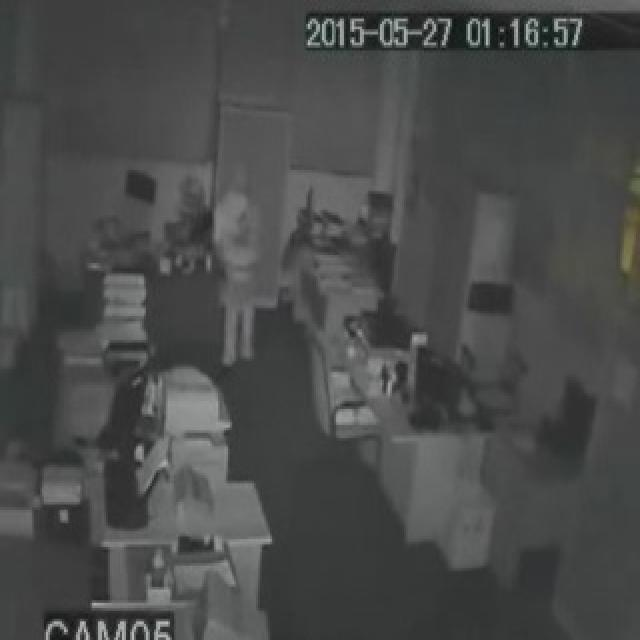thief: (192, 155, 282, 312)
